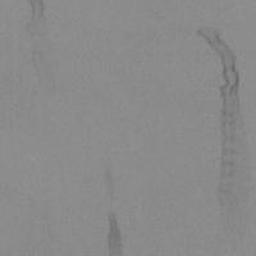Water spot: (193, 24, 255, 239), (24, 0, 64, 95), (106, 211, 124, 256)
